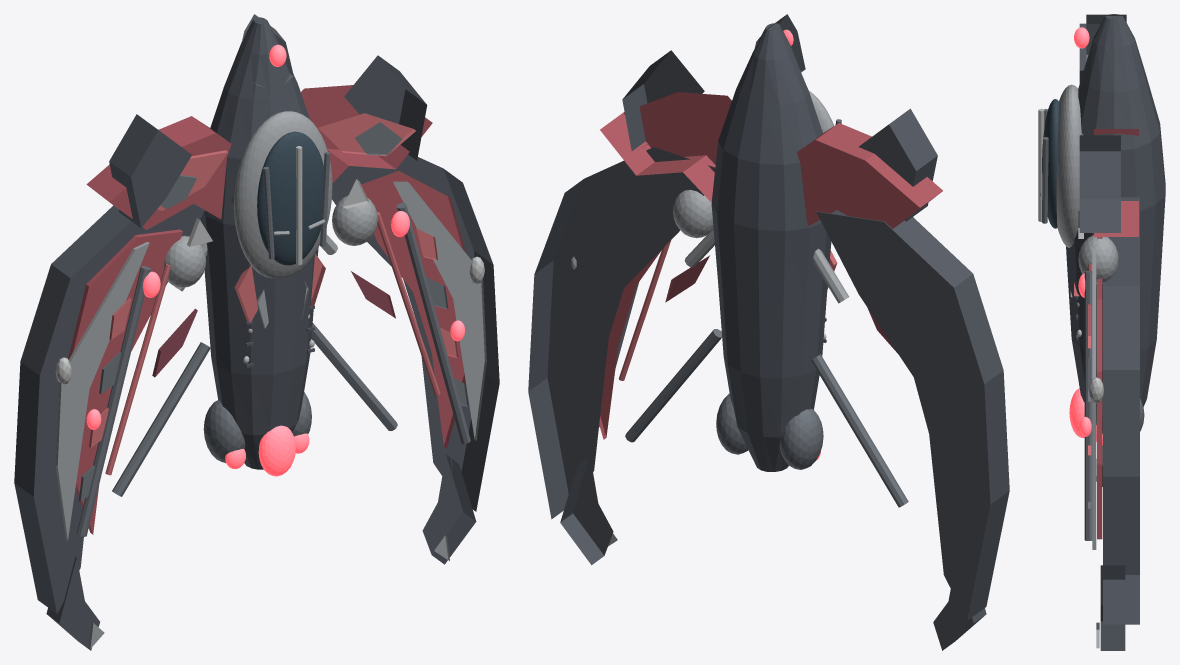
The model's file is enemy-scout.glb.
3 views of the same model, side by side, from view 1: azimuth 30°, elevation 25°; view 2: azimuth 150°, elevation 25°; view 3: azimuth 270°, elevation 25° (orthographic). The views are drawn at different scales.
Parts seen in each view (by area): view 1: Main scout fuselage, Outer swept wing -1, Outer swept wing 1, Gunmetal wing edge -1, Crimson wing inlay 1, Smoked canopy, Gunmetal wing edge 1, Crimson wing inlay -1, Cockpit armored surround, Upper black fin -1, Red shoulder armor -1, Upper black fin 1 (+20 smaller); view 2: Main scout fuselage, Outer swept wing -1, Outer swept wing 1, Red shoulder armor -1, Red shoulder armor 1, Upper black fin -1, Upper black fin 1, Lower claw blade 1, Lower wing strut -1, Rear thruster housing -1, Crimson wing inlay 1, Lower wing strut 1 (+6 smaller); view 3: Main scout fuselage, Outer swept wing 1, Upper black fin 1, Cockpit armored surround, Wing rail 1, Crimson wing inlay 1, Gunmetal wing edge 1, Smoked canopy, Shoulder joint 1, Lower claw blade 1, Red shoulder armor 1, Canopy center spine (+7 smaller).
Boxes of the visible parts, <box> form: Main scout fuselage: <box>200,17,318,469</box>; Outer swept wing -1: <box>14,204,204,613</box>; Outer swept wing 1: <box>332,155,499,511</box>; Gunmetal wing edge -1: <box>55,241,149,540</box>; Crimson wing inlay 1: <box>361,171,465,448</box>; Smoked canopy: <box>257,131,323,265</box>; Gunmetal wing edge 1: <box>393,181,486,440</box>; Crimson wing inlay -1: <box>68,229,182,534</box>; Cockpit armored surround: <box>234,111,332,278</box>; Upper black fin -1: <box>109,114,191,227</box>; Red shoulder armor -1: <box>86,116,231,229</box>; Upper black fin 1: <box>344,55,427,160</box>; Main scout fuselage: <box>711,23,831,471</box>; Outer swept wing -1: <box>816,210,1009,620</box>; Outer swept wing 1: <box>528,147,715,519</box>; Red shoulder armor -1: <box>797,123,942,228</box>; Red shoulder armor 1: <box>600,92,731,202</box>; Upper black fin -1: <box>859,108,937,221</box>; Upper black fin 1: <box>622,50,704,150</box>; Lower claw blade 1: <box>560,457,613,565</box>; Lower wing strut -1: <box>811,354,908,507</box>; Rear thruster housing -1: <box>779,408,823,469</box>; Crimson wing inlay 1: <box>599,249,662,439</box>; Lower wing strut 1: <box>625,329,722,442</box>; Main scout fuselage: <box>1066,14,1165,424</box>; Outer swept wing 1: <box>1103,197,1139,624</box>; Upper black fin 1: <box>1079,135,1120,232</box>; Cockpit armored surround: <box>1056,84,1081,247</box>; Wing rail 1: <box>1084,271,1092,540</box>; Crimson wing inlay 1: <box>1097,237,1102,539</box>; Gunmetal wing edge 1: <box>1092,248,1096,549</box>; Smoked canopy: <box>1042,99,1058,228</box>; Shoulder joint 1: <box>1078,235,1118,284</box>; Lower claw blade 1: <box>1100,565,1125,650</box>; Red shoulder armor 1: <box>1094,129,1138,236</box>; Canopy center spine: <box>1038,108,1044,221</box>.
Size of the model in its own units: 4.56 by 5.46 by 1.14.
